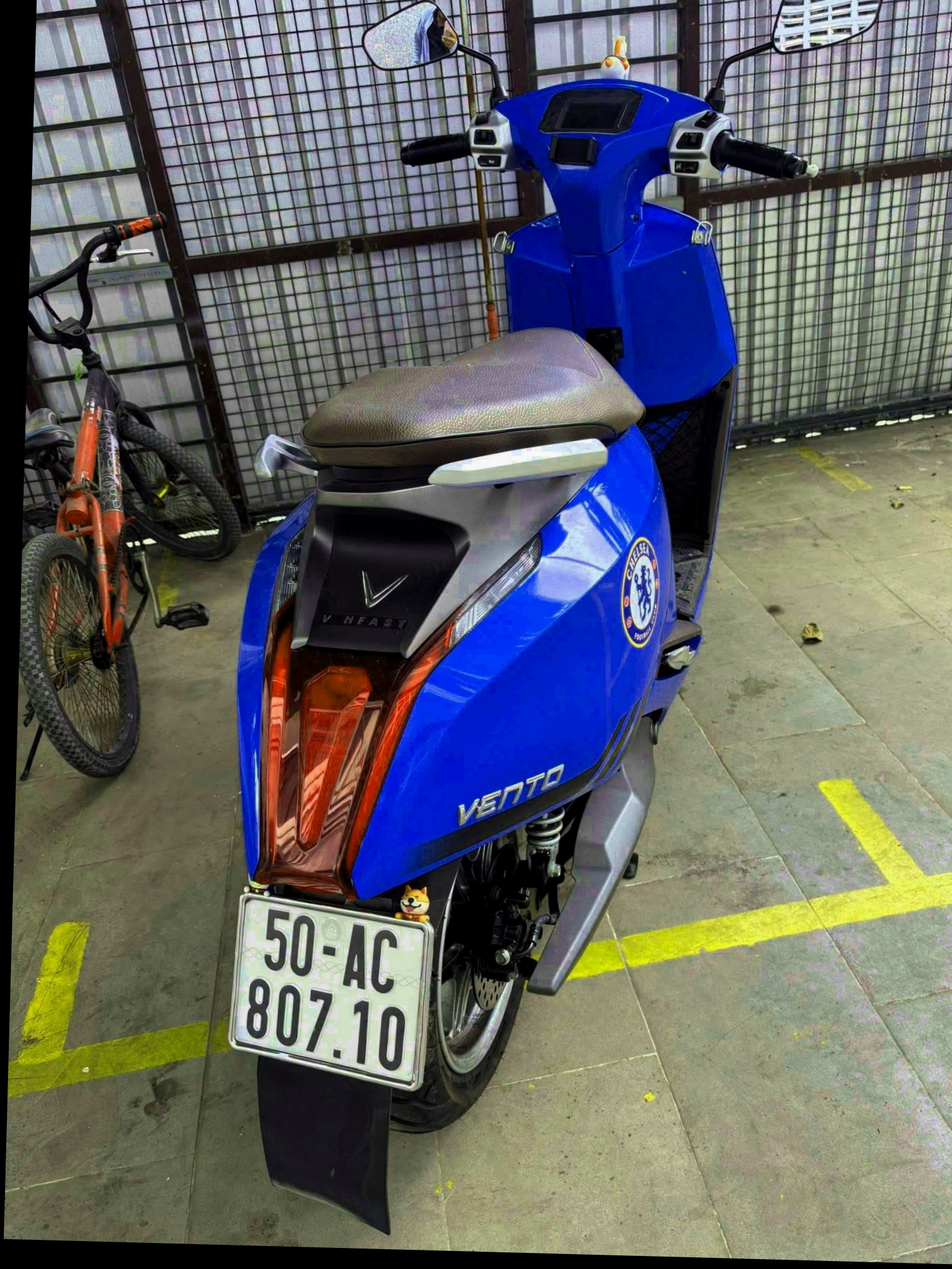Bien-so: (231, 894, 430, 1096)
